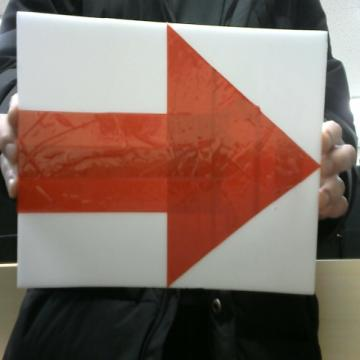red_right: (18, 26, 319, 285)
